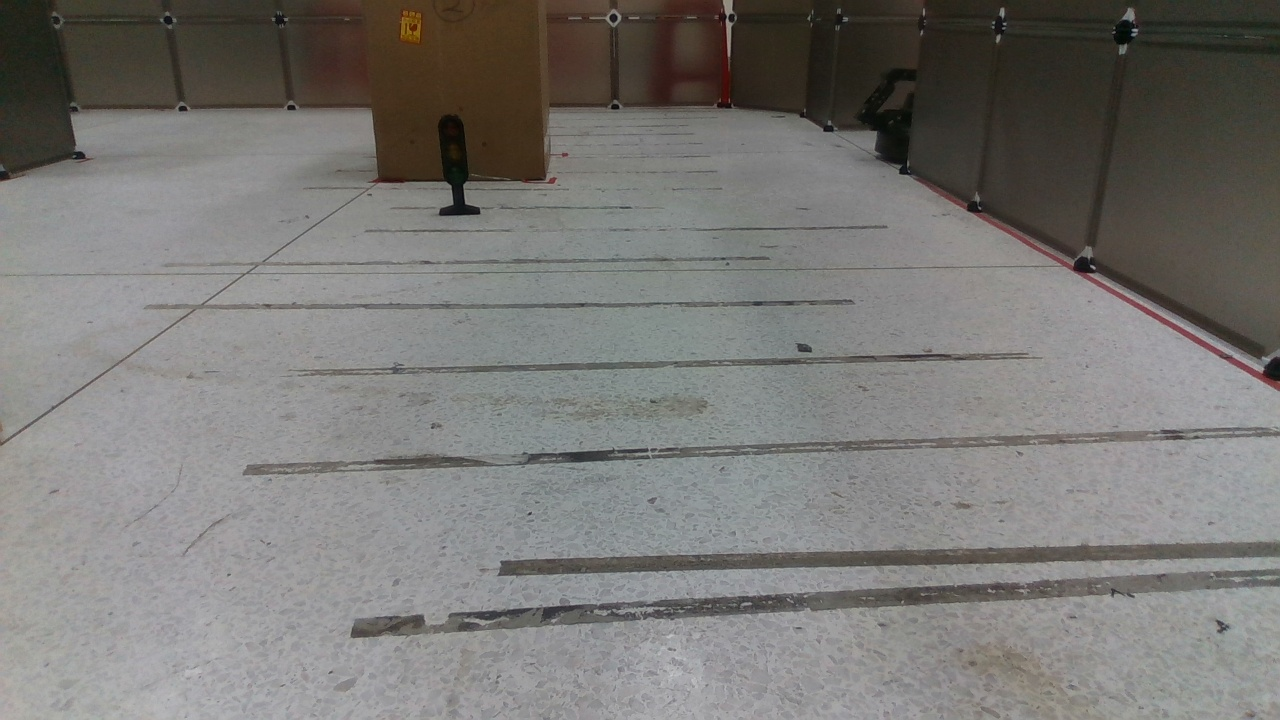Dim traffic light: (423, 116, 486, 221)
